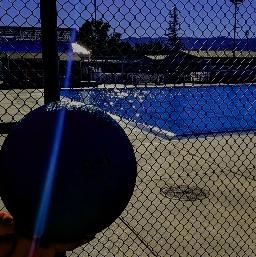algae: (0, 101, 139, 237)
